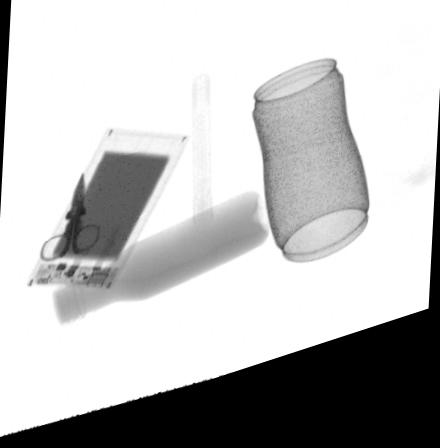Powerbank: (21, 133, 194, 301)
Scissors: (38, 176, 103, 267)
